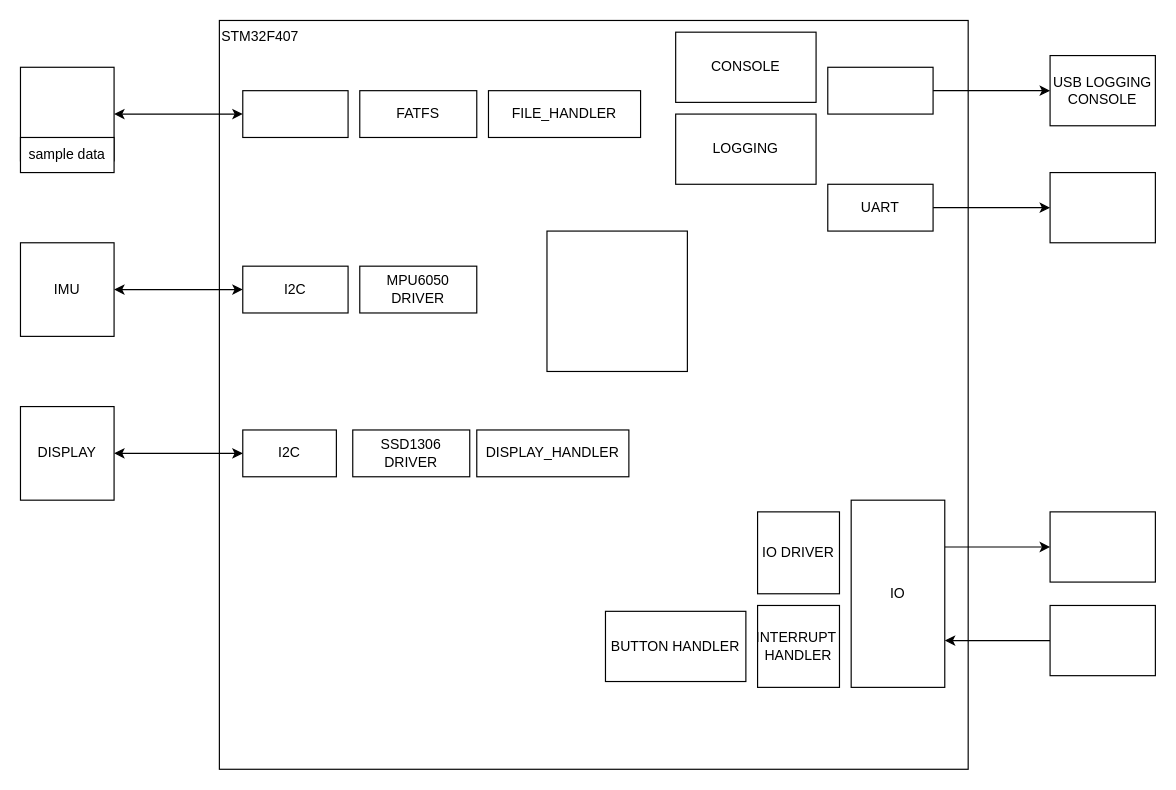
This 1176x790 diagram has some shape labels left out. The shapes that lost their labels are listed below. From the top down, each one's box as (x1, y1, x2, y2) in pixels, then its label:
(827, 66, 933, 114): USB CDC
(19, 66, 114, 161): SD card
(242, 90, 348, 137): SDIO
(1049, 171, 1155, 243): UART LOGGING
(546, 230, 687, 371): MAIN LOOP
(1049, 511, 1155, 582): LEDS
(1049, 604, 1155, 676): BUTTONS
